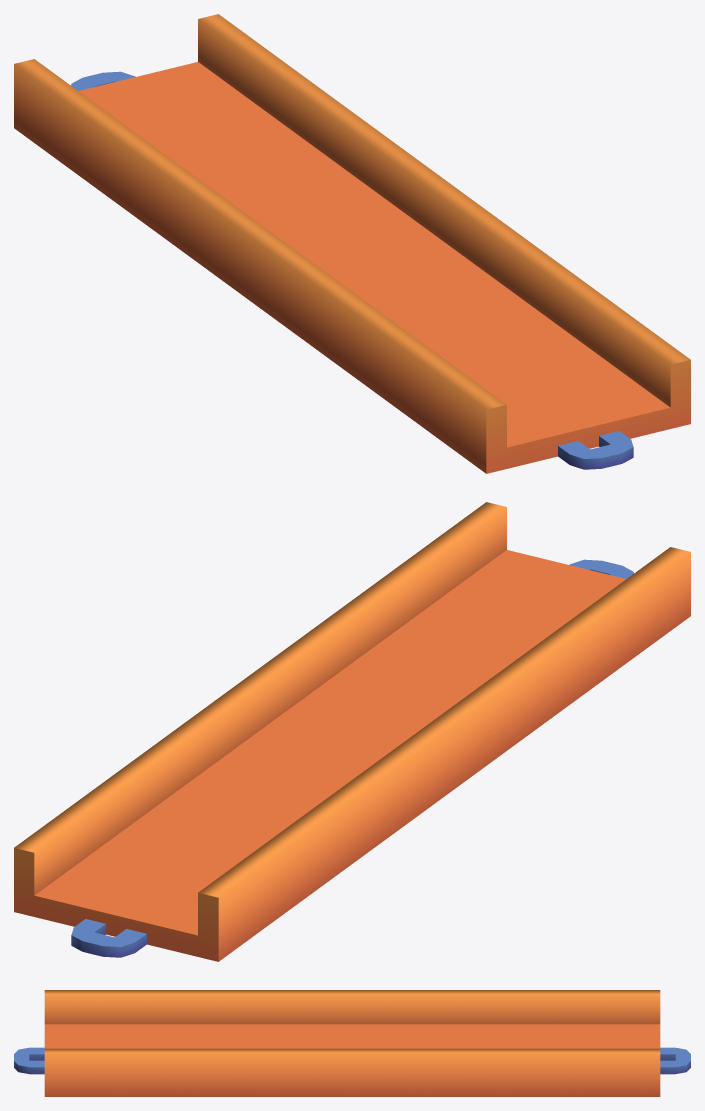
Rendered from track-narrow-straight.glb.
3 views of the same model, one above another, from view 1: azimuth 30°, elevation 25°; view 2: azimuth 150°, elevation 25°; view 3: azimuth 270°, elevation 25° (orthographic). The views are drawn at different scales.
Visible parts, largest first — view 1: track-narrow-straight; view 2: track-narrow-straight; view 3: track-narrow-straight.
Boxes of the visible parts, x1=… form: track-narrow-straight: x1=14, y1=14, x2=690, y2=473; track-narrow-straight: x1=14, y1=502, x2=690, y2=961; track-narrow-straight: x1=14, y1=990, x2=690, y2=1096.
Bounding box in the file's own units: 3 × 0.9 × 13.2.
1 material, 1 textured.
